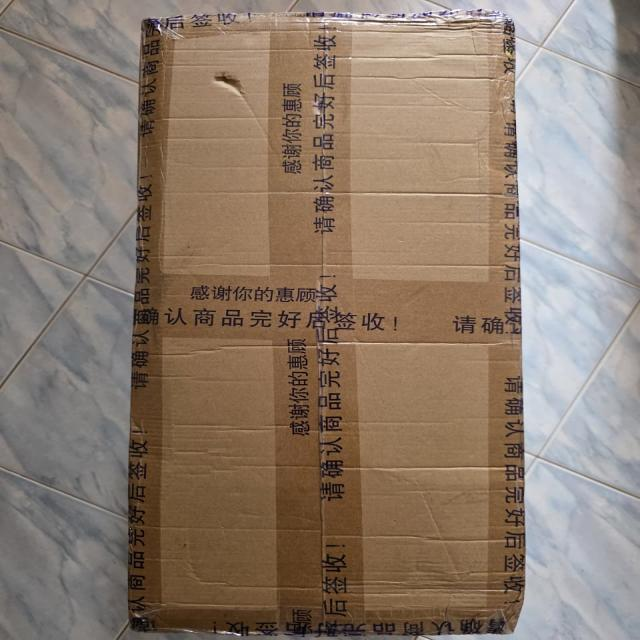carton_box: (118, 3, 544, 640)
package_damage: (187, 51, 290, 125)
